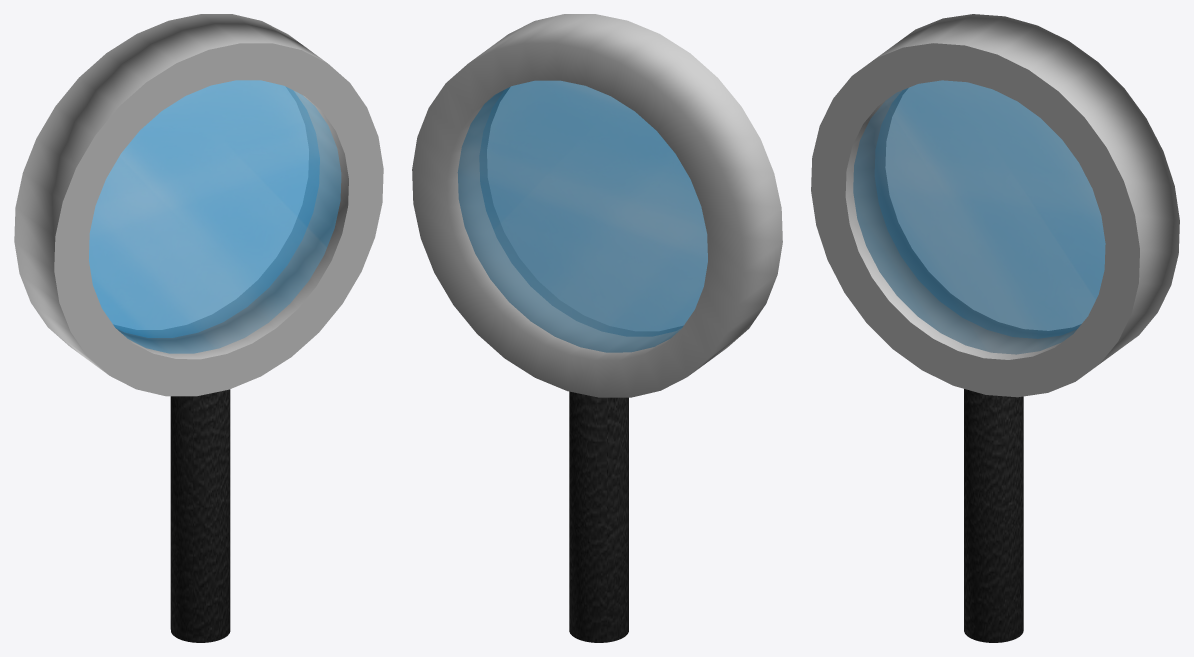
The model's file is MagnifineGlass.fbx.
3 views of the same model, side by side, from view 1: azimuth 30°, elevation 25°; view 2: azimuth 150°, elevation 25°; view 3: azimuth 330°, elevation 25° (orthographic).
Visible parts, largest first — view 1: Frame, Lens, Handle; view 2: Frame, Lens, Handle; view 3: Frame, Lens, Handle.
Part boxes in pixels (x1=…): Frame: x1=14, y1=14, x2=383, y2=396; Lens: x1=89, y1=80, x2=341, y2=353; Handle: x1=170, y1=389, x2=230, y2=642; Frame: x1=412, y1=14, x2=782, y2=397; Lens: x1=457, y1=80, x2=707, y2=352; Handle: x1=569, y1=391, x2=628, y2=642; Frame: x1=811, y1=14, x2=1179, y2=397; Lens: x1=853, y1=80, x2=1105, y2=354; Handle: x1=964, y1=389, x2=1023, y2=642.
Bounding box in the file's own units: 3.96 × 6.85 × 0.8301.
